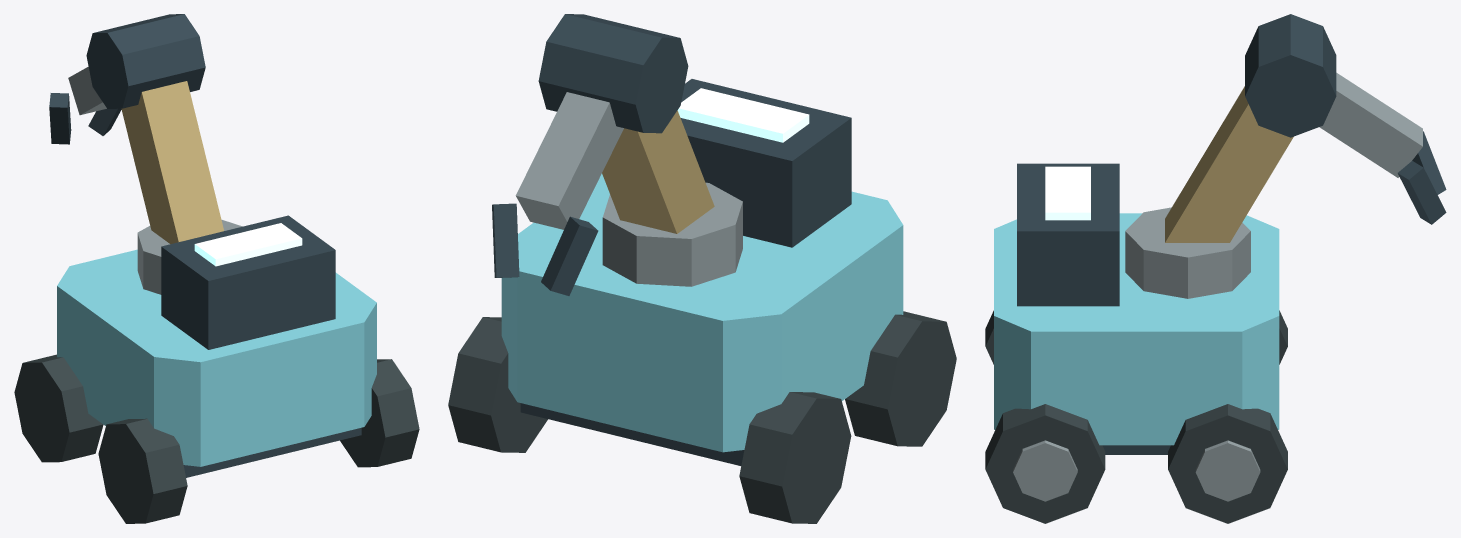
The model's file is builder-low.glb.
3 renders of one model, left to right at view 1: azimuth 30°, elevation 25°; view 2: azimuth 150°, elevation 25°; view 3: azimuth 270°, elevation 25°, orthographic. The views are drawn at different scales.
Parts seen in each view (by area): view 1: chassis, asset_builder__FP_Baked, arm__FP_Baked, battery_signal; view 2: chassis, asset_builder__FP_Baked, arm__FP_Baked, battery_signal; view 3: chassis, asset_builder__FP_Baked, arm__FP_Baked, battery_signal.
Part boxes in pixels (x1,y1,x2,y2): chassis: (57,249,376,466); asset_builder__FP_Baked: (14,215,419,523); arm__FP_Baked: (49,14,242,294); battery_signal: (194,223,302,266); chassis: (501,173,903,452); asset_builder__FP_Baked: (448,79,956,523); arm__FP_Baked: (492,14,742,295); battery_signal: (677,88,809,142); chassis: (994,213,1279,445); asset_builder__FP_Baked: (985,163,1287,523); arm__FP_Baked: (1125,14,1446,298); battery_signal: (1045,166,1090,220).
Bounding box in the file's own units: 0.5963 × 0.81 × 0.8079.
